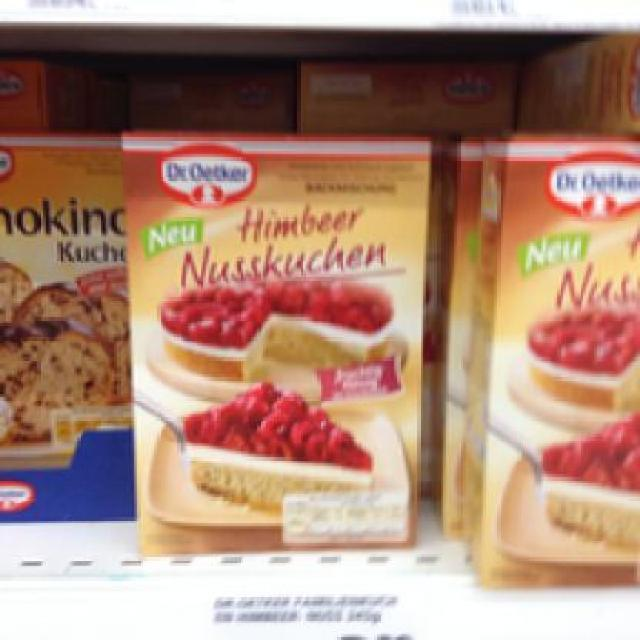Cake: (116, 128, 430, 558), (457, 126, 637, 583)
